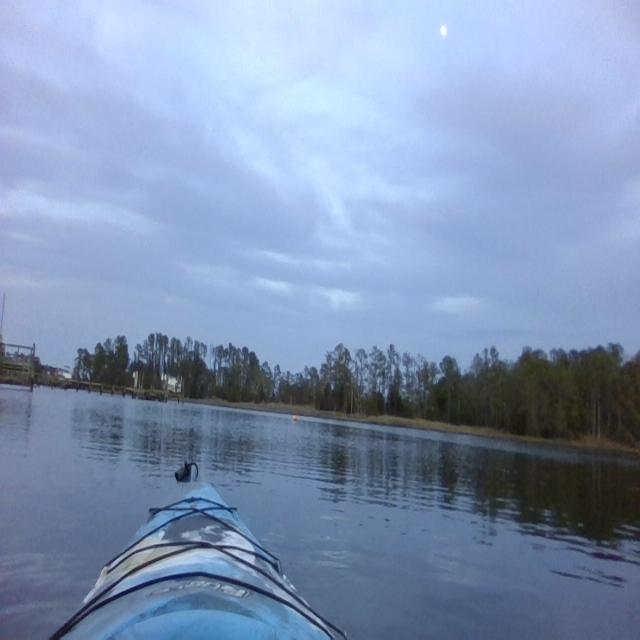Buoy: (292, 413, 298, 422)
